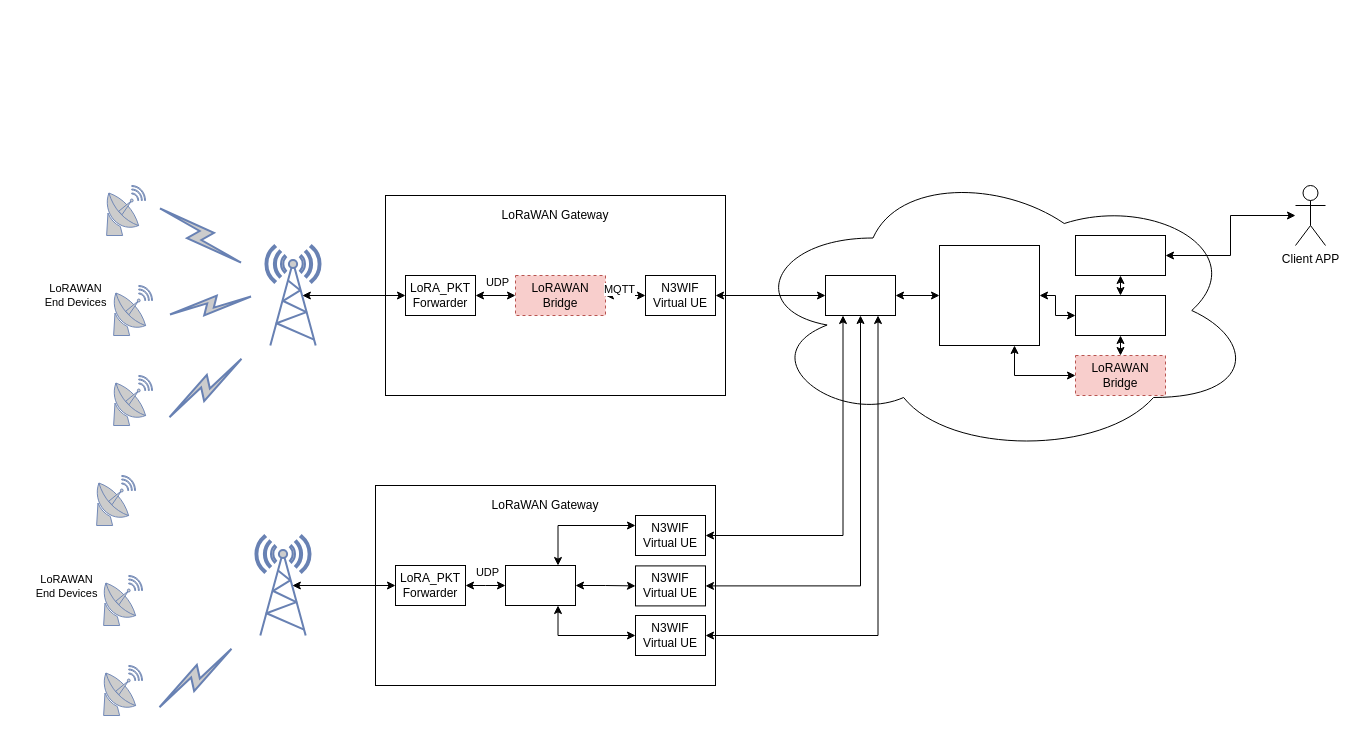
This 1356x746 diagram has some shape labels left out. Here are the shapes that lost their labels. From the top down, the box of each, then its label:
(1074, 234, 1166, 276): LoRAWAN APP SRV
(824, 274, 896, 316): N3WIF
(938, 244, 1040, 346): 5GC
(1074, 294, 1166, 336): LoRAWAN NET SRV
(504, 564, 576, 606): QOS Router
